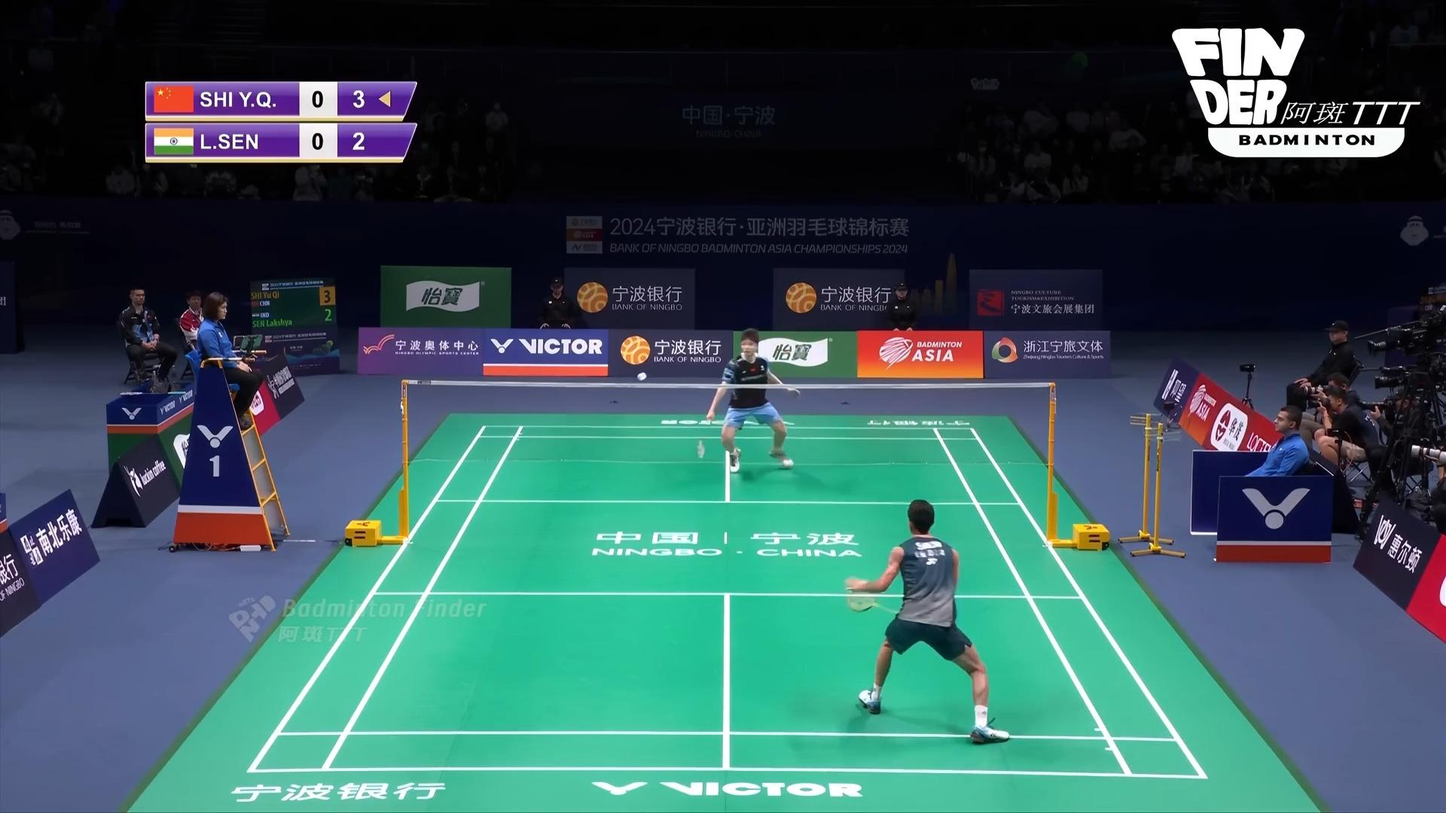player: (845, 500, 1009, 743), (706, 330, 801, 473)
